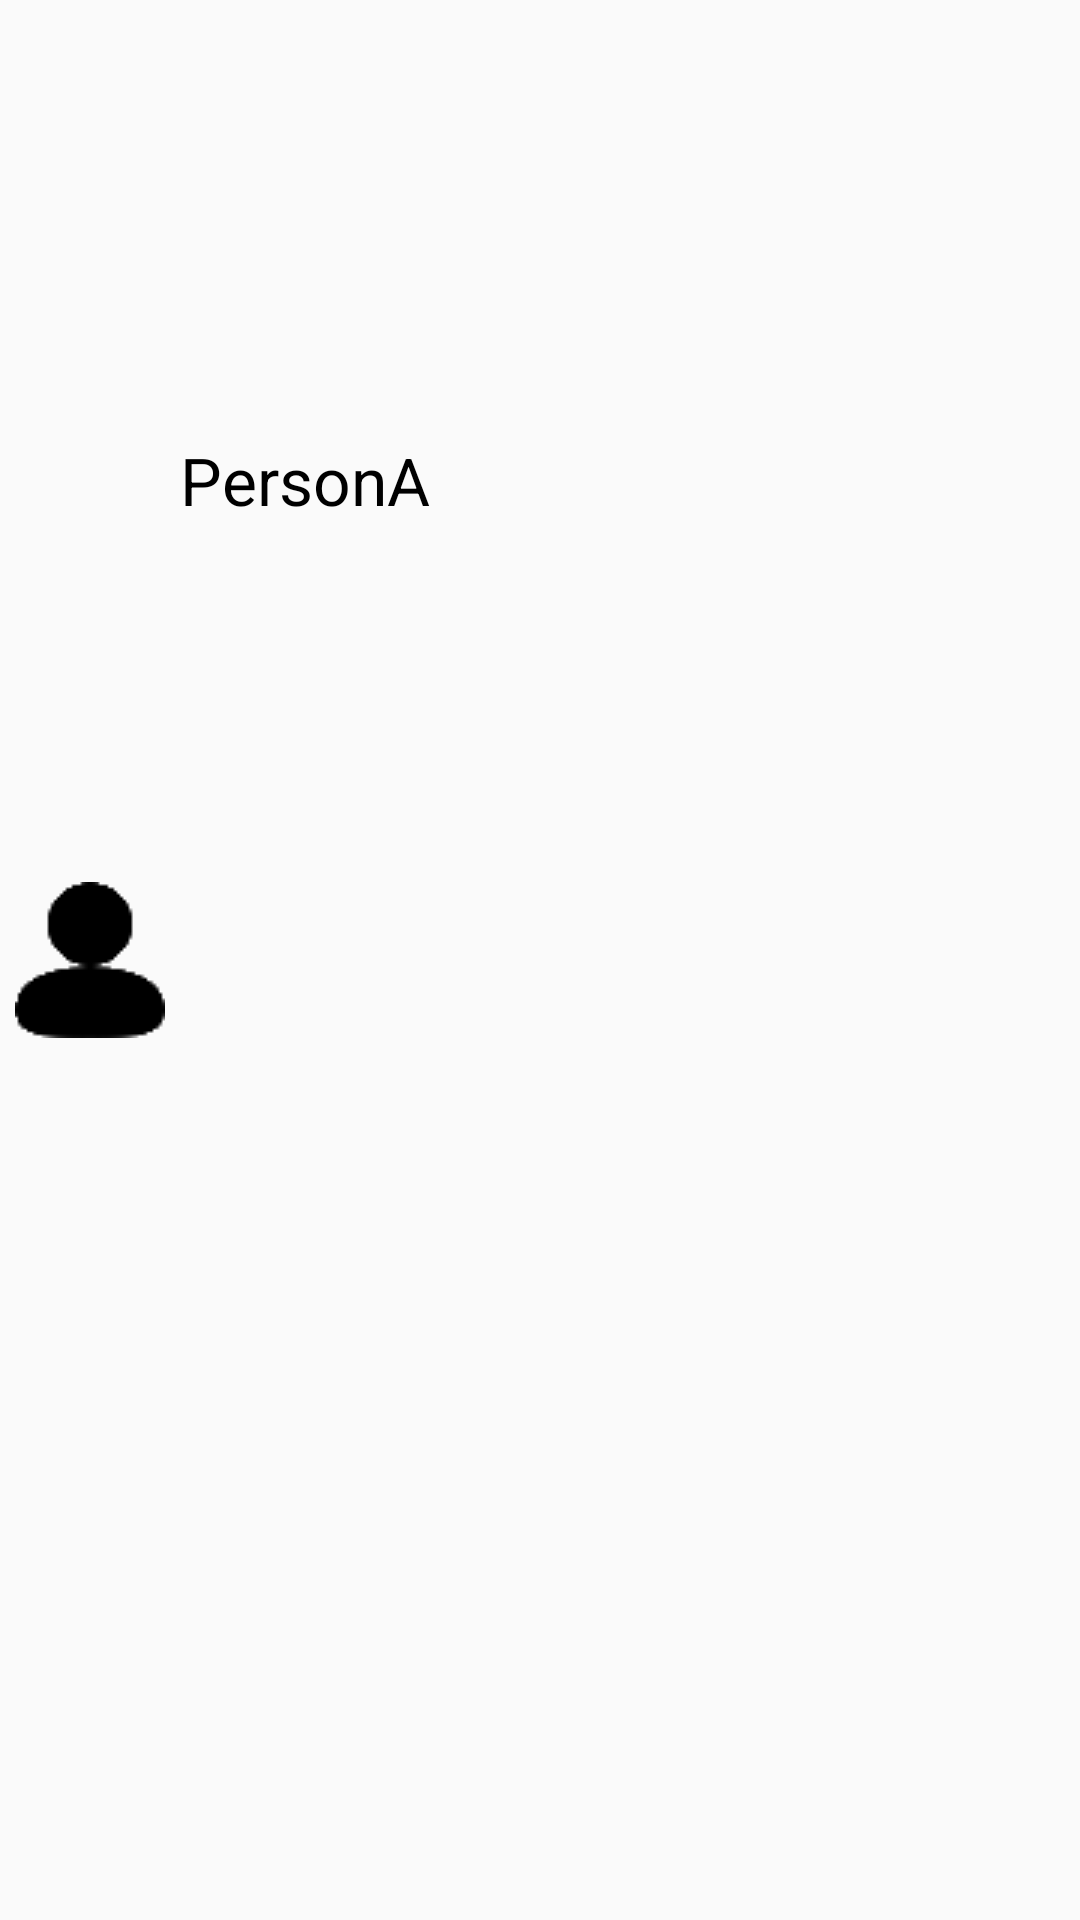

Where to tap for icons on this 1080px×1920px app screen, as (x=x, y=y):
avatar: (x=90, y=960)
